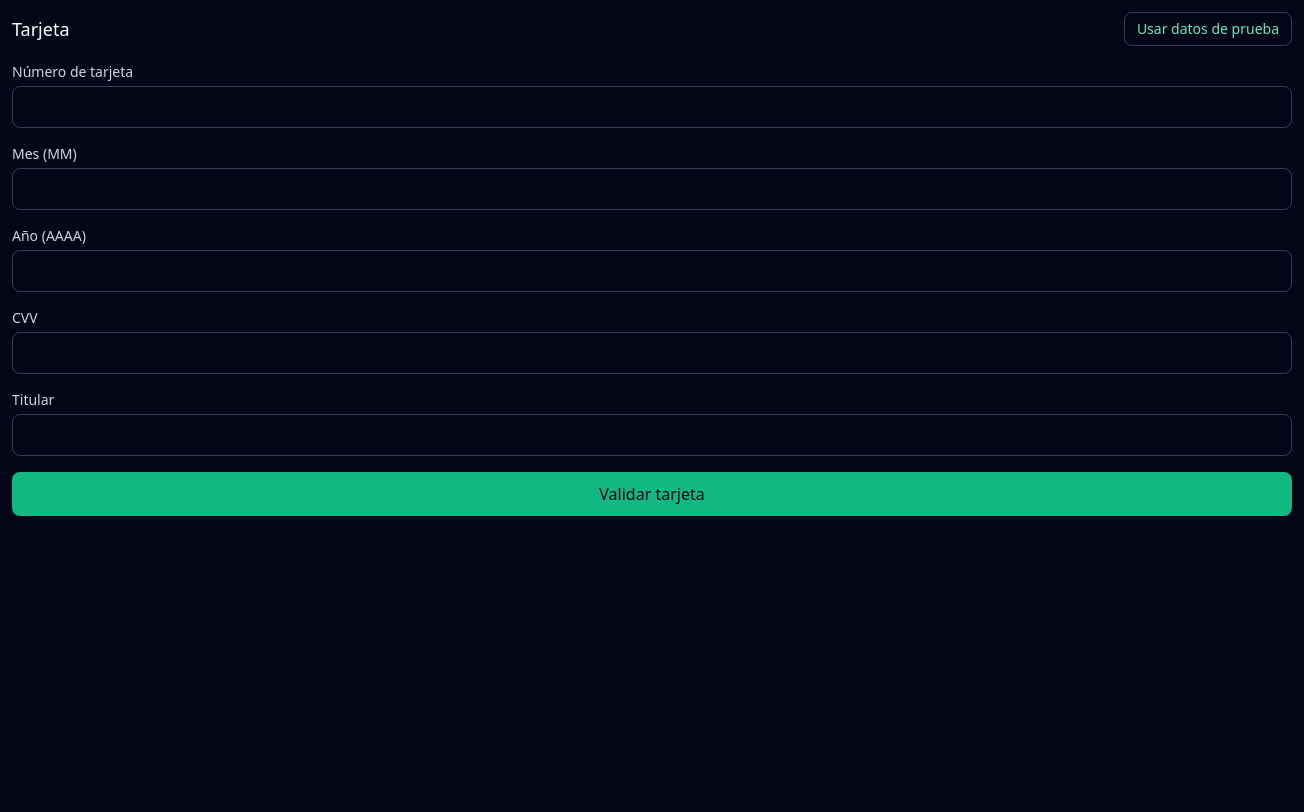
Scenario: CardForm › rechaza un PAN inválido
Click the button "Usar datos de prueba" at (1208, 29), box [1124, 12, 1292, 46]
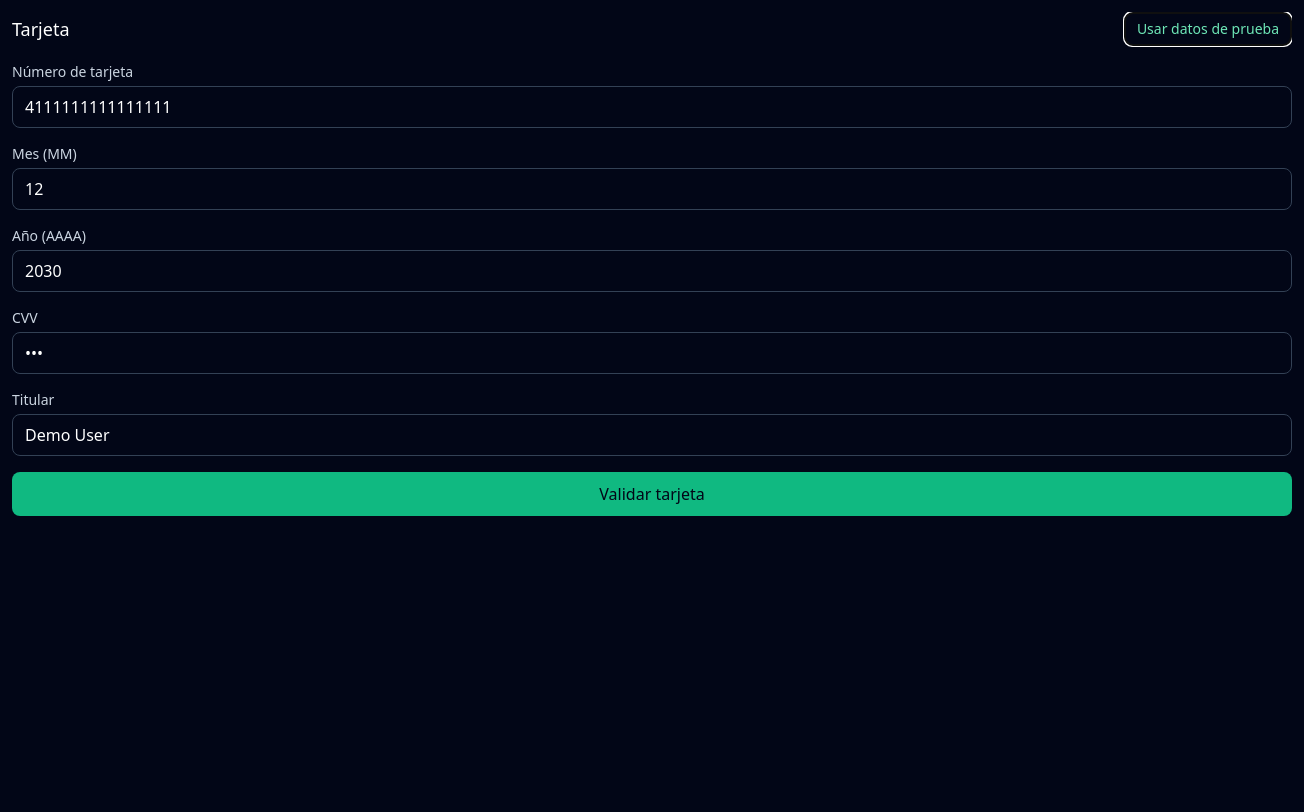
Replace the text in the field labelled "Número de tarjeta" with "4111111111111112" at (652, 107), box [12, 86, 1292, 128]
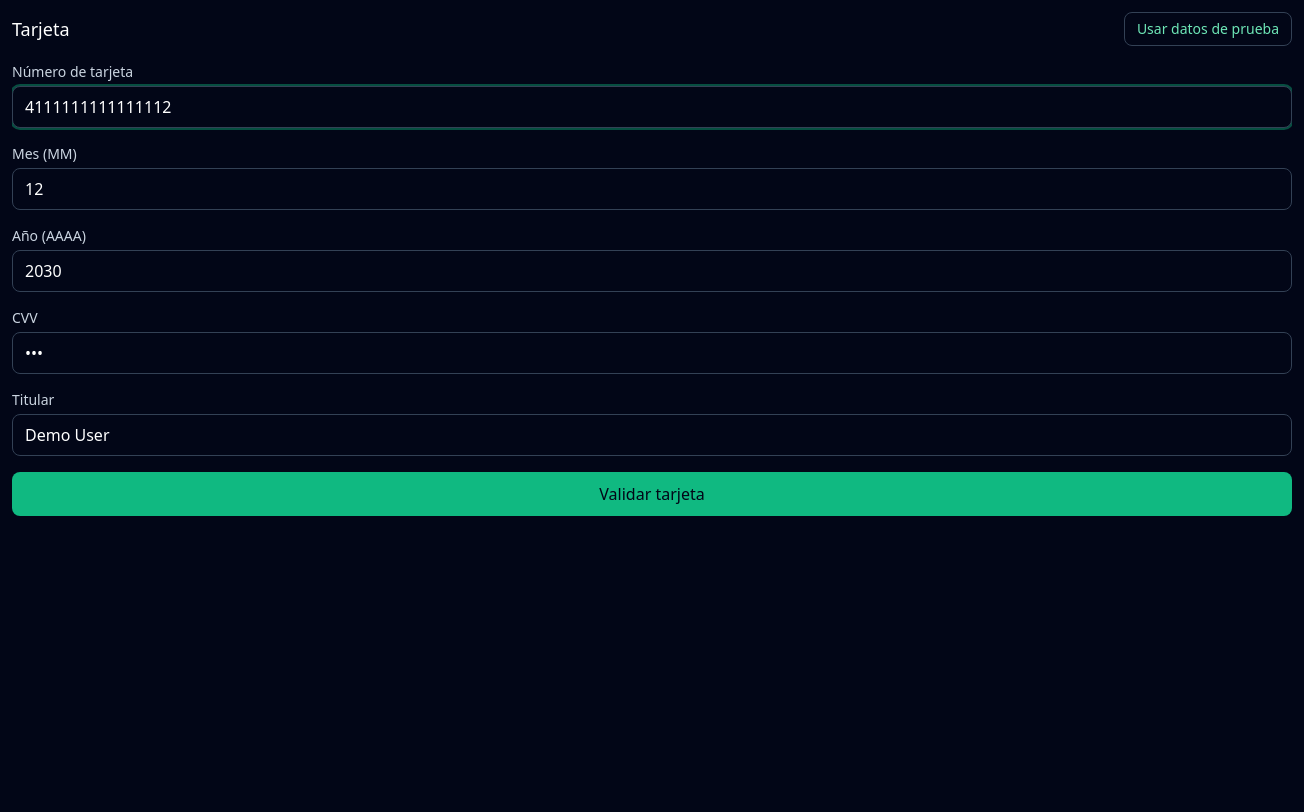
Click the button "Validar tarjeta" at (652, 494), box [12, 472, 1292, 516]
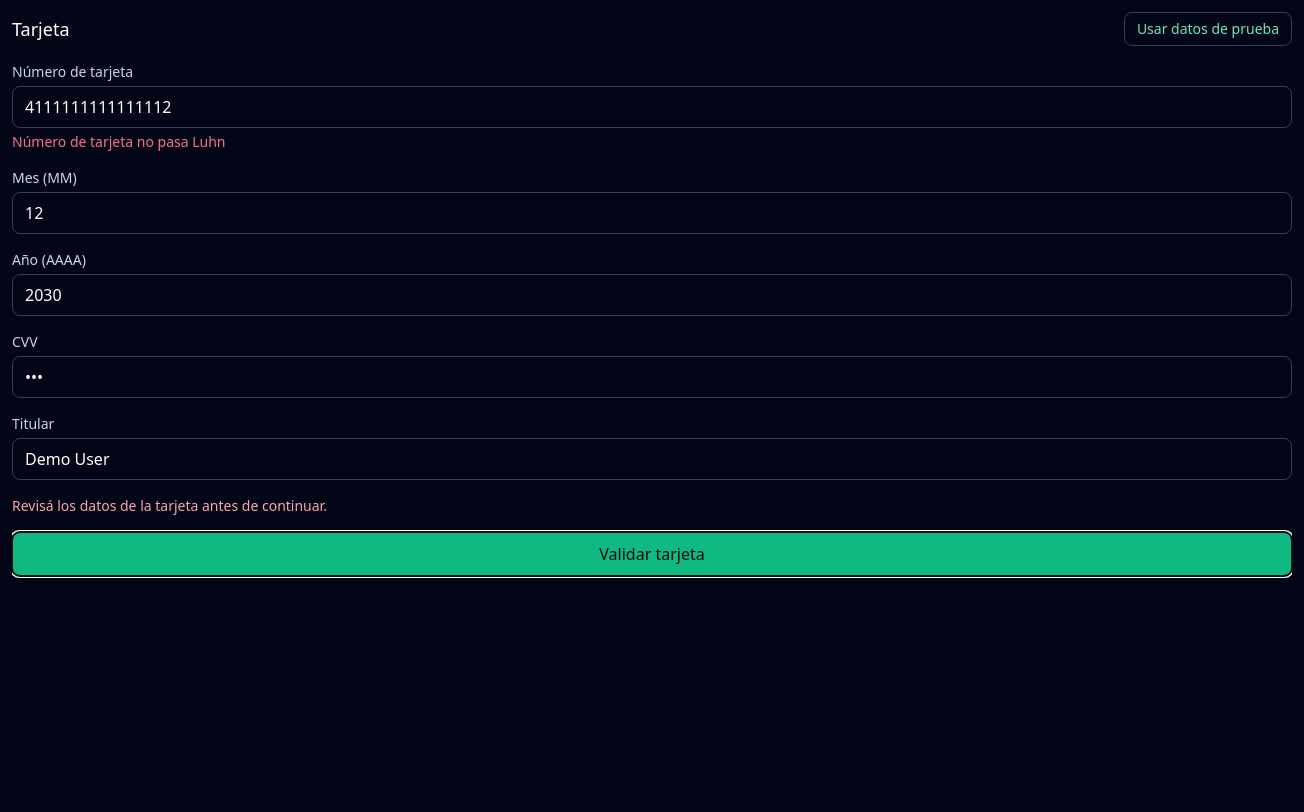
Now the text "Número de tarjeta no pasa Luhn" is shown, box [12, 132, 226, 151]
